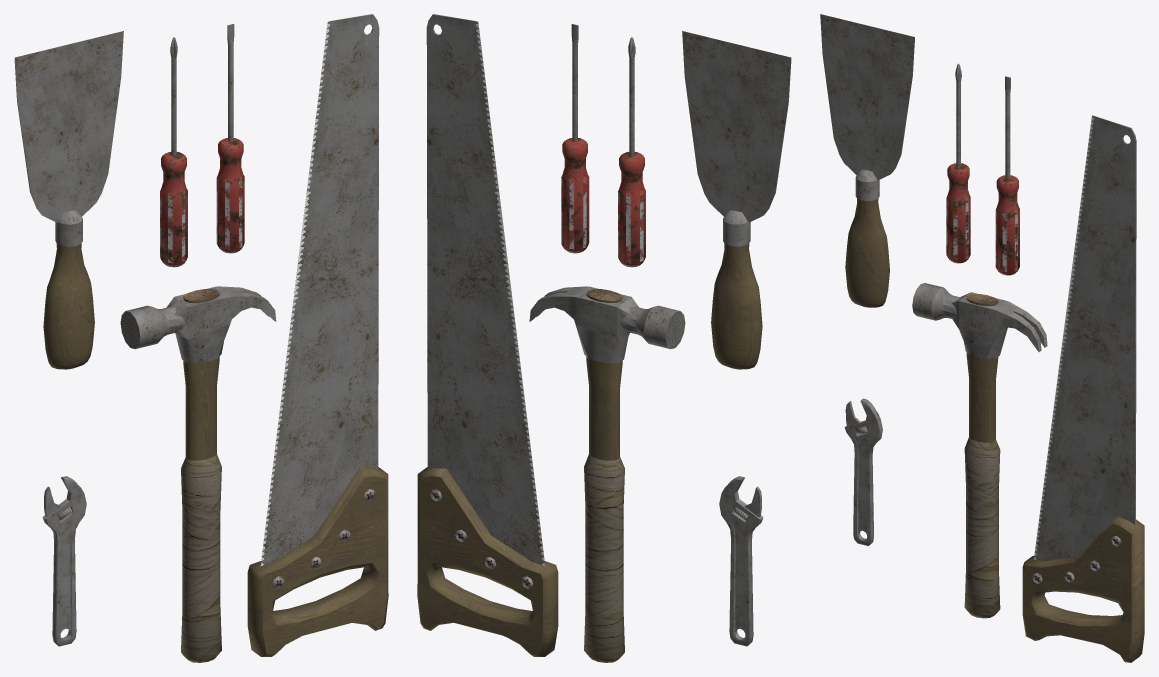
File: Scraper1.fbx
3 views of the same model, side by side, from view 1: azimuth 30°, elevation 25°; view 2: azimuth 150°, elevation 25°; view 3: azimuth 330°, elevation 25° (orthographic). The views are drawn at different scales.
Parts seen in each view (by area): view 1: Cube_2, Cylinder_005_9, Cylinder_003_3, Cube_003_8, Cylinder_001_1, Cylinder_0; view 2: Cube_2, Cylinder_005_9, Cylinder_003_3, Cube_003_8, Cylinder_001_1, Cylinder_0; view 3: Cube_2, Cylinder_005_9, Cylinder_003_3, Cube_003_8, Cylinder_001_1, Cylinder_0.
Part boxes in pixels (left/top/right/bottom): Cube_2: left=247, top=14, right=388, bottom=656; Cylinder_005_9: left=14, top=31, right=123, bottom=369; Cylinder_003_3: left=120, top=286, right=276, bottom=662; Cube_003_8: left=42, top=476, right=86, bottom=646; Cylinder_001_1: left=216, top=24, right=244, bottom=253; Cylinder_0: left=160, top=37, right=187, bottom=267; Cube_2: left=417, top=14, right=558, bottom=656; Cylinder_005_9: left=682, top=31, right=791, bottom=369; Cylinder_003_3: left=529, top=286, right=685, bottom=662; Cube_003_8: left=719, top=476, right=763, bottom=646; Cylinder_001_1: left=561, top=24, right=589, bottom=253; Cylinder_0: left=618, top=37, right=645, bottom=267; Cube_2: left=1022, top=115, right=1144, bottom=662; Cylinder_005_9: left=820, top=14, right=914, bottom=307; Cylinder_003_3: left=912, top=283, right=1047, bottom=618; Cube_003_8: left=844, top=398, right=882, bottom=545; Cylinder_001_1: left=995, top=76, right=1019, bottom=275; Cylinder_0: left=946, top=63, right=970, bottom=263.
Size of the model in its own units: 4440 by 7557 by 411.
6 materials, 6 textured.
